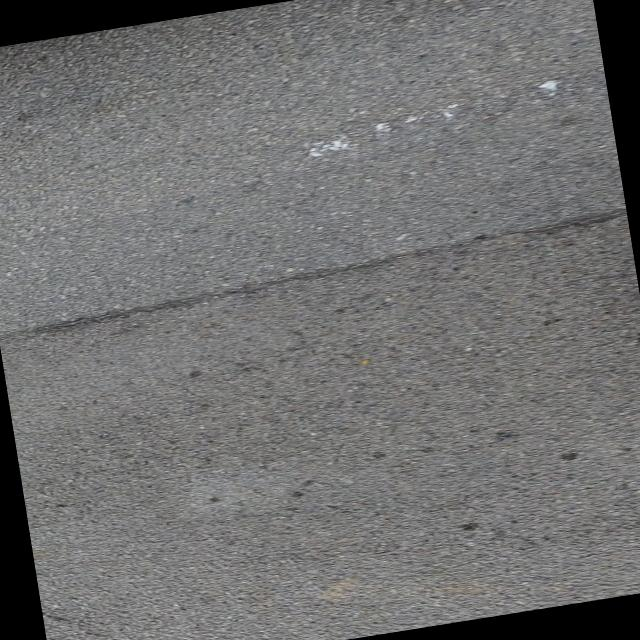Retak-Melintang: (22, 206, 625, 336)
